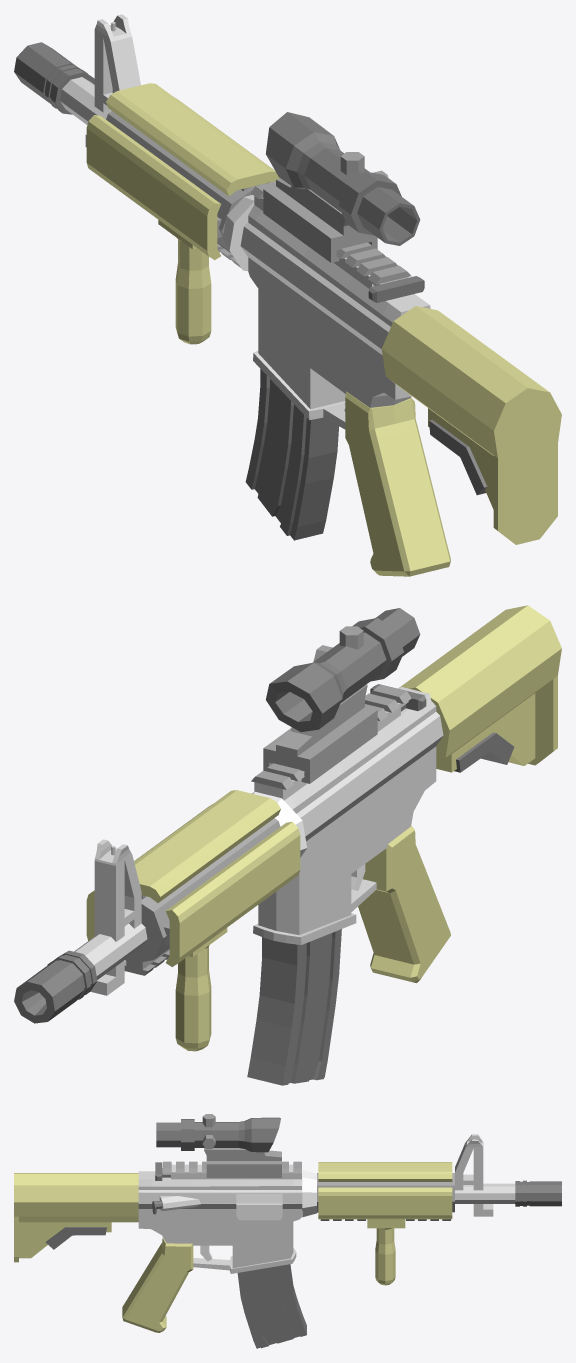
File: ScopedM4.fbx
3 views of the same model, one above another, from view 1: azimuth 30°, elevation 25°; view 2: azimuth 150°, elevation 25°; view 3: azimuth 270°, elevation 25° (orthographic). The views are drawn at different scales.
Parts seen in each view (by area): view 1: M4, Stock, Scope, Magazine, Side Rail Covers, Top Rail Cover, Grip, Slide; view 2: M4, Stock, Scope, Magazine, Side Rail Covers, Top Rail Cover, Grip; view 3: M4, Stock, Scope, Side Rail Covers, Magazine, Top Rail Cover, Grip.
Part boxes in pixels (x1,y1,x2,y2): M4: [14, 14, 450, 576]; Stock: [381, 306, 561, 544]; Scope: [263, 112, 420, 262]; Magazine: [245, 369, 338, 540]; Side Rail Covers: [86, 97, 274, 260]; Top Rail Cover: [106, 83, 280, 195]; Grip: [158, 220, 211, 344]; Slide: [368, 276, 424, 302]; M4: [14, 685, 450, 1023]; Stock: [398, 605, 561, 772]; Scope: [263, 608, 420, 783]; Magazine: [247, 929, 341, 1085]; Side Rail Covers: [86, 804, 300, 966]; Top Rail Cover: [134, 790, 280, 902]; Grip: [175, 928, 227, 1051]; M4: [122, 1134, 561, 1332]; Stock: [14, 1173, 138, 1262]; Scope: [156, 1114, 281, 1177]; Side Rail Covers: [318, 1187, 452, 1219]; Magazine: [237, 1264, 306, 1348]; Top Rail Cover: [318, 1162, 452, 1181]; Grip: [367, 1219, 405, 1285].
Size of the model in its own units: 3.63 by 15.32 by 33.27.
